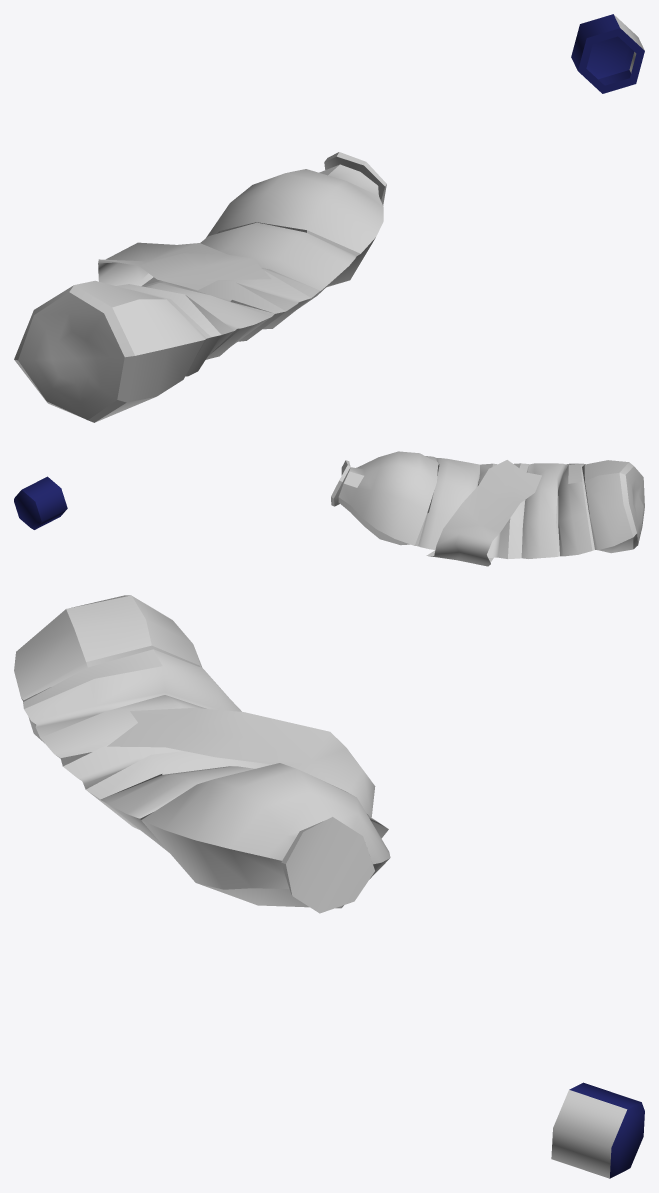
The model's file is BL_BottleFlat_MOD.fbx.
3 renders of one model, top to bottom at view 1: azimuth 30°, elevation 25°; view 2: azimuth 150°, elevation 25°; view 3: azimuth 270°, elevation 25°, orthographic. The views are drawn at different scales.
Parts seen in each view (by area): view 1: BL_WaterBottleFlat_MOD_V1; view 2: BL_WaterBottleFlat_MOD_V1; view 3: BL_WaterBottleFlat_MOD_V1.
Part boxes in pixels (x1,y1,x2,y2): BL_WaterBottleFlat_MOD_V1: (14,14,644,422); BL_WaterBottleFlat_MOD_V1: (14,451,644,566); BL_WaterBottleFlat_MOD_V1: (14,595,644,1178).
Bounding box in the file's own units: 112 × 16.45 × 62.67.
